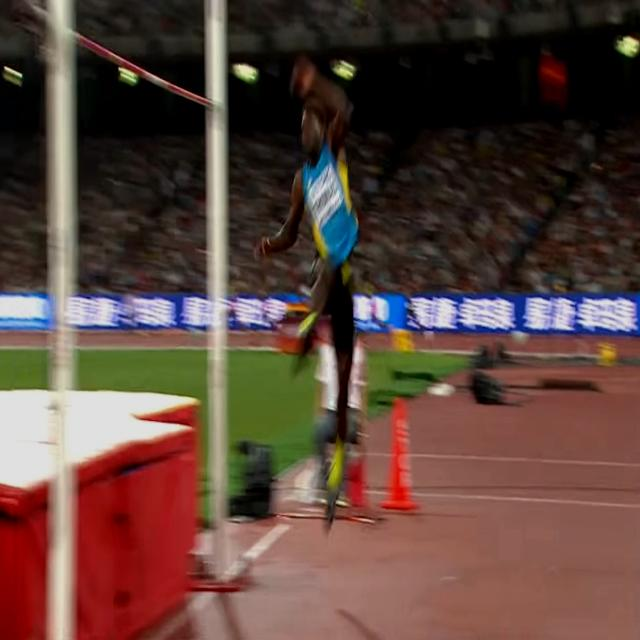jump: (251, 57, 359, 538)
